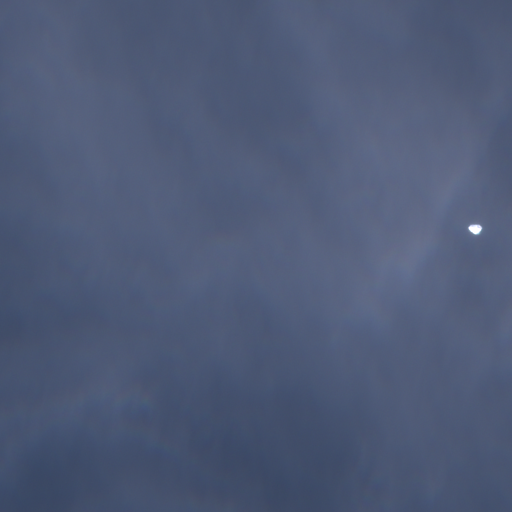Iceberg: (468, 224, 481, 234)
